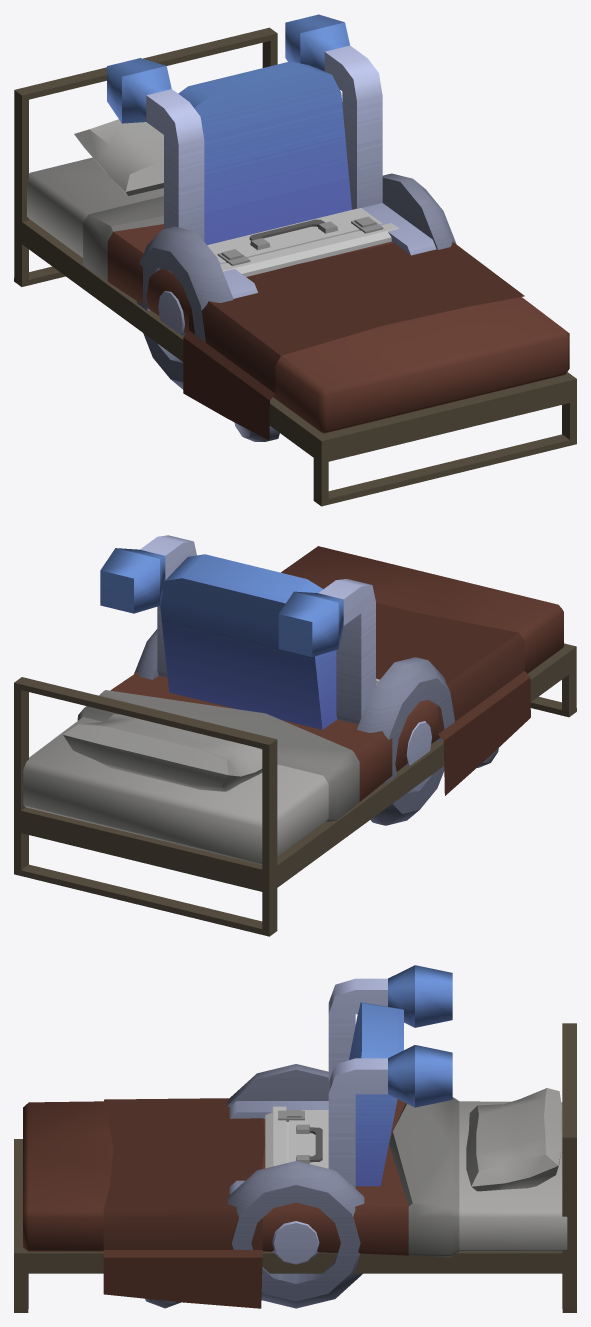
Rendered from primeros-auxilios.glb.
3 views of the same model, one above another, from view 1: azimuth 30°, elevation 25°; view 2: azimuth 150°, elevation 25°; view 3: azimuth 270°, elevation 25° (orthographic). The views are drawn at different scales.
Parts seen in each view (by area): view 1: Bed_Single, wheelchair, FirstAidKit_Hard; view 2: Bed_Single, wheelchair; view 3: Bed_Single, wheelchair, FirstAidKit_Hard.
Part boxes in pixels (x1,y1,x2,y2): Bed_Single: (14,27,576,506); wheelchair: (107,14,456,441); FirstAidKit_Hard: (207,208,398,276); Bed_Single: (14,546,576,936); wheelchair: (100,535,498,825); Bed_Single: (14,1023,576,1312); wheelchair: (145,965,452,1308); FirstAidKit_Hard: (265,1106,328,1168).
Size of the model in its own units: 1 by 0.9501 by 2.
13 materials, 2 textured.
